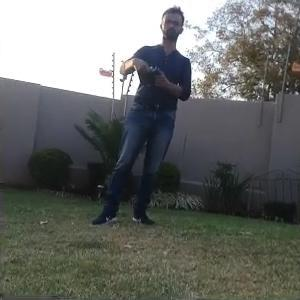follow: (87, 2, 193, 228)
